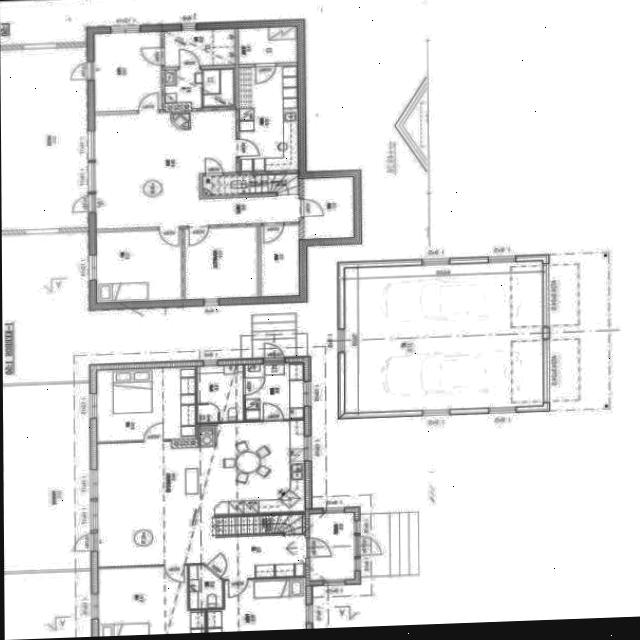room: (96, 564, 206, 637), (95, 366, 198, 441), (95, 229, 183, 302), (239, 65, 298, 171), (205, 577, 307, 632), (183, 226, 259, 299), (94, 31, 161, 111), (244, 362, 305, 420), (309, 511, 355, 580), (304, 176, 354, 238), (261, 224, 300, 296), (163, 28, 236, 66), (165, 68, 234, 107), (197, 364, 243, 421), (237, 25, 298, 63), (190, 564, 223, 608)
